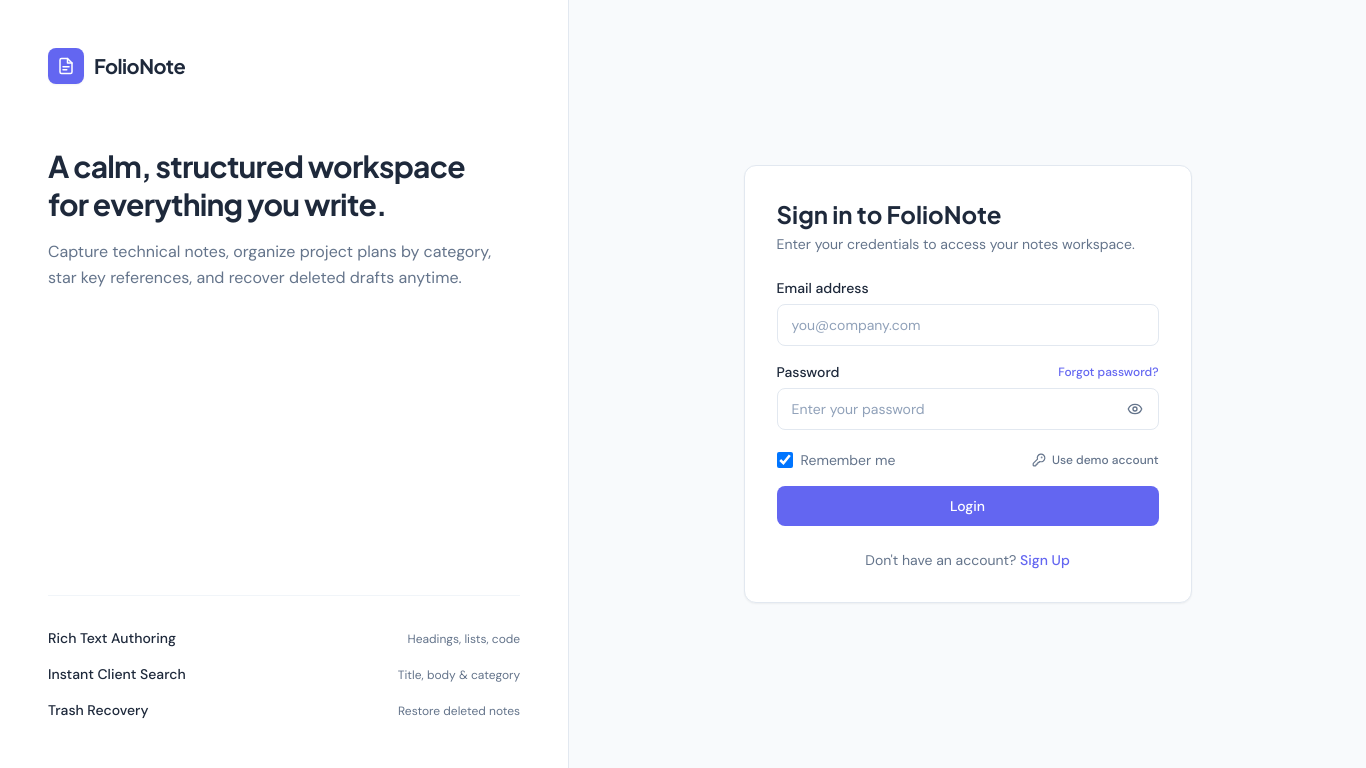
it: Authentication Screens › shows validation errors when submitting empty login form
Click the button "Login": click(968, 506) x1=777 y1=486 x2=1159 y2=526
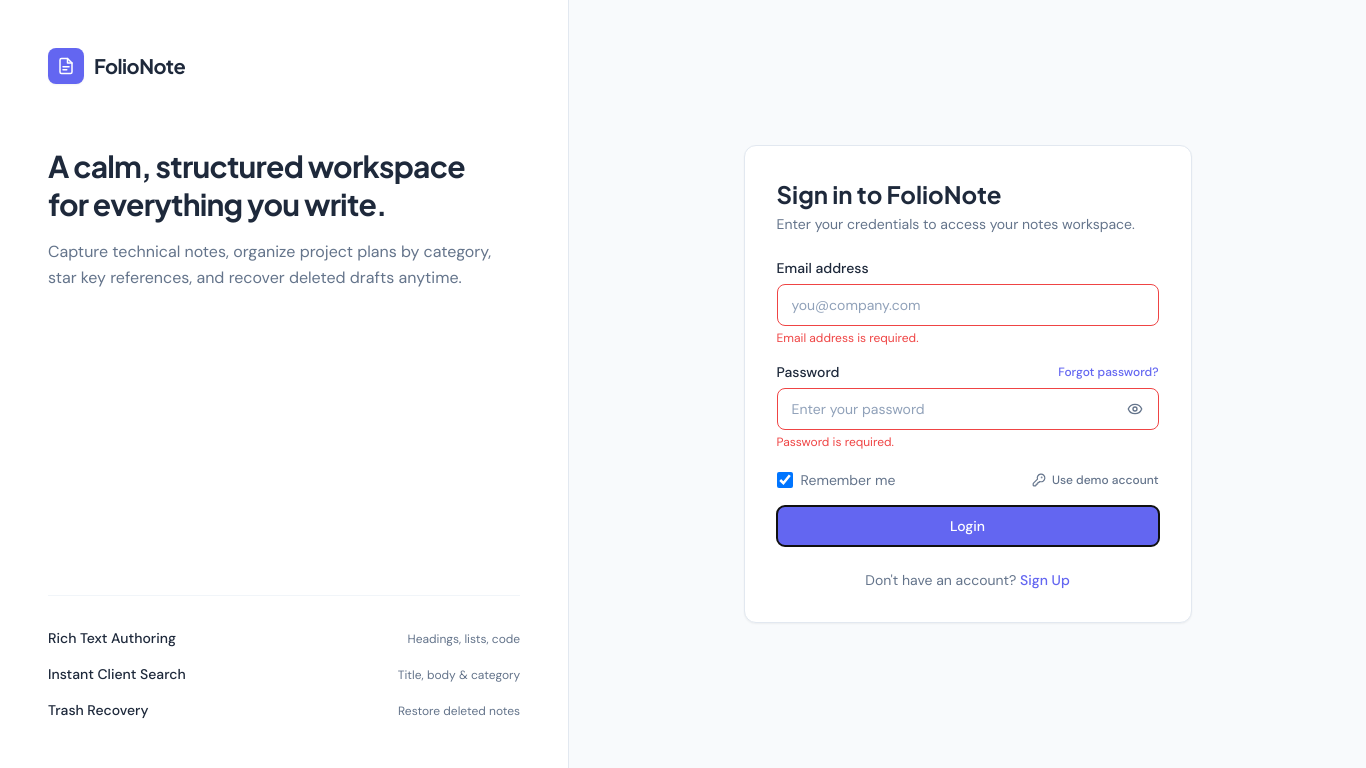
Now the text "Email address is required." is shown, box x1=777 y1=330 x2=918 y2=346
Now the text "Password is required." is shown, box x1=777 y1=434 x2=894 y2=450
